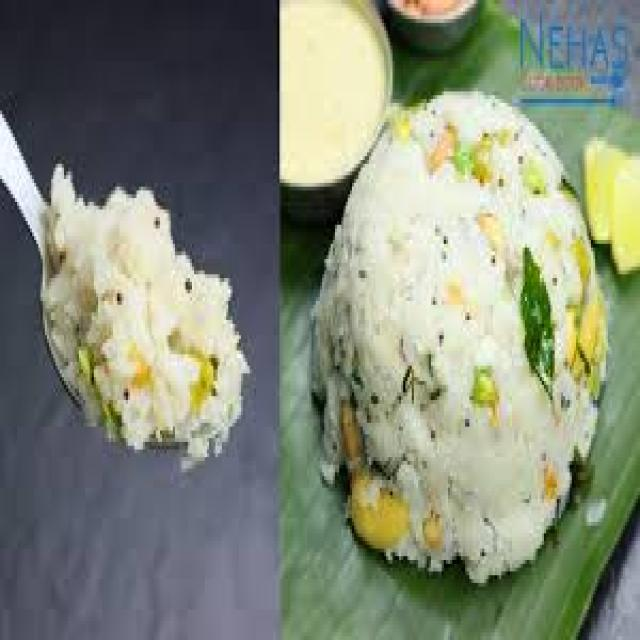UPMA: (311, 95, 606, 571), (38, 160, 243, 457)
